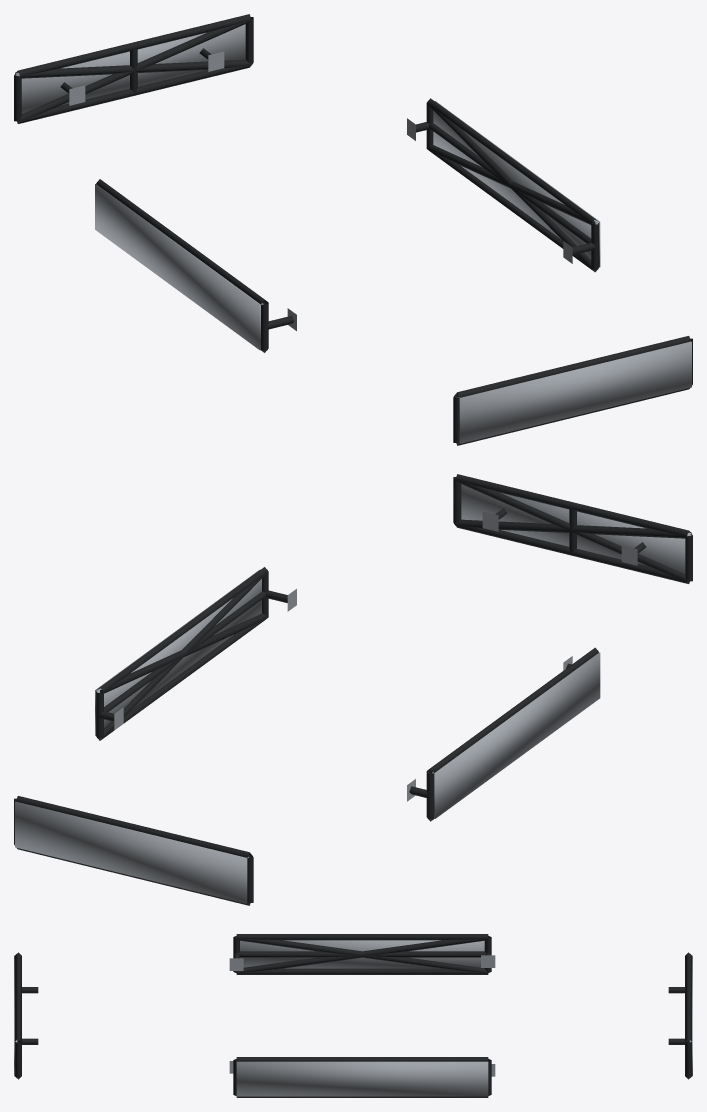
Rendered from ridgeway_cordilheira_protecao.glb.
The picture shows the model from 3 angles, top to bottom: view 1: azimuth 30°, elevation 25°; view 2: azimuth 150°, elevation 25°; view 3: azimuth 270°, elevation 25°; orthographic projection. The views are drawn at different scales.
Visible parts, largest first — view 1: Protection_front_Level3_Details, Protection_left_Level3_Details, Protection_rear_Level3_Details, Protection_rear_Level1_Details, Protection_right_Level1_Details, Protection_rear_Level2_Details, Protection_right_Level2_Details, Protection_right_Level3_Details, Protection_front_Level1_Details, Protection_left_Level1_Details; view 2: Protection_rear_Level3_Details, Protection_left_Level3_Details, Protection_front_Level3_Details, Protection_front_Level1_Details, Protection_right_Level1_Details, Protection_front_Level2_Details, Protection_right_Level2_Details, Protection_right_Level3_Details, Protection_rear_Level1_Details, Protection_left_Level1_Details; view 3: Protection_right_Level3_Details, Protection_left_Level2_Details, Protection_left_Level1_Details, Protection_left_Level3_Details, Protection_right_Level1_Details, Protection_rear_Level1_Details, Protection_front_Level1_Details.
Boxes of the visible parts, <box> form: Protection_front_Level3_Details: <box>458,341,691,443</box>; Protection_left_Level3_Details: <box>95,184,263,350</box>; Protection_rear_Level3_Details: <box>15,24,245,113</box>; Protection_rear_Level1_Details: <box>14,14,253,123</box>; Protection_right_Level1_Details: <box>407,98,599,272</box>; Protection_rear_Level2_Details: <box>16,20,251,123</box>; Protection_right_Level2_Details: <box>427,104,598,271</box>; Protection_right_Level3_Details: <box>433,101,600,267</box>; Protection_front_Level1_Details: <box>453,336,692,445</box>; Protection_left_Level1_Details: <box>96,179,296,352</box>; Protection_rear_Level3_Details: <box>15,801,248,903</box>; Protection_left_Level3_Details: <box>432,652,600,818</box>; Protection_front_Level3_Details: <box>461,484,691,573</box>; Protection_front_Level1_Details: <box>453,474,692,583</box>; Protection_right_Level1_Details: <box>96,567,296,740</box>; Protection_front_Level2_Details: <box>455,480,690,583</box>; Protection_right_Level2_Details: <box>96,572,268,740</box>; Protection_right_Level3_Details: <box>95,569,261,735</box>; Protection_rear_Level1_Details: <box>14,796,253,905</box>; Protection_left_Level1_Details: <box>407,647,598,821</box>; Protection_right_Level3_Details: <box>236,1061,488,1096</box>; Protection_left_Level2_Details: <box>236,937,487,973</box>; Protection_left_Level1_Details: <box>229,934,495,974</box>; Protection_left_Level3_Details: <box>240,940,484,968</box>; Protection_right_Level1_Details: <box>229,1057,495,1097</box>; Protection_rear_Level1_Details: <box>668,952,691,1079</box>; Protection_front_Level1_Details: <box>15,952,38,1079</box>.
Bounding box in the file's own units: 2.35 × 0.354 × 5.32.
1 material, 1 textured.
